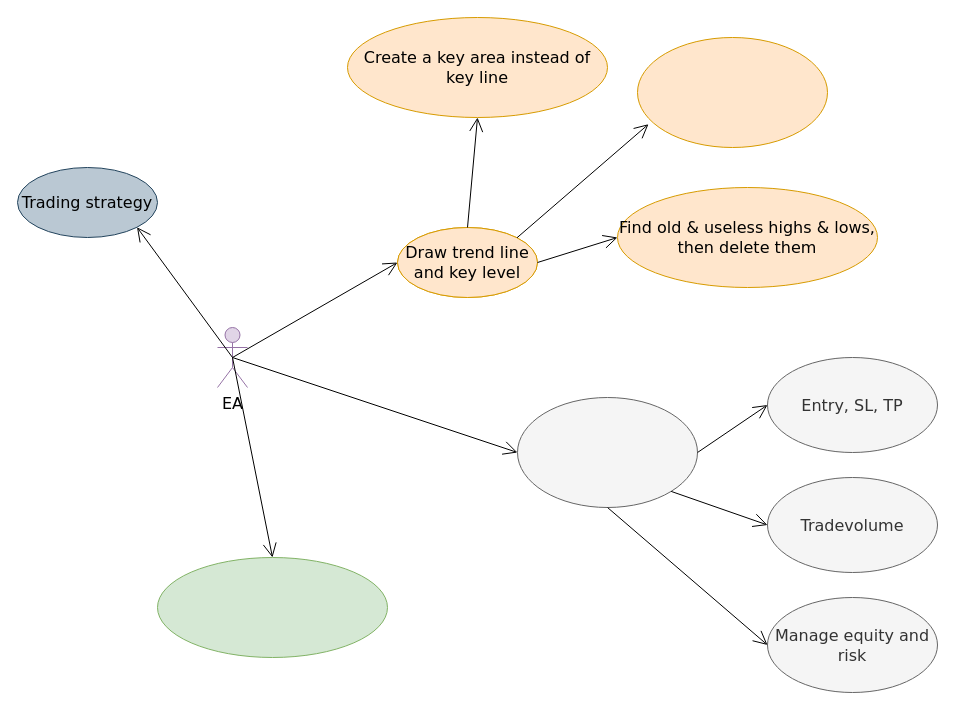
The diagram is 955 pixels wide and 710 high, and some of its shapes have lost their labels. The shapes that lost their labels are listed below. From the top down, each one's box as (x1, y1, x2, y2) in pixels, then its label:
(636, 36, 828, 148): Determine new highs & lows
(516, 396, 698, 508): Take the order
(156, 556, 388, 658): Save logs, send orders to cell phone by telegram message
